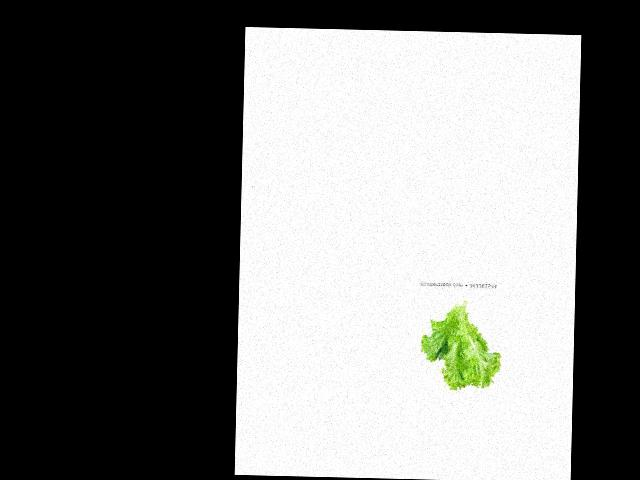lettuce: (408, 265, 487, 383)
